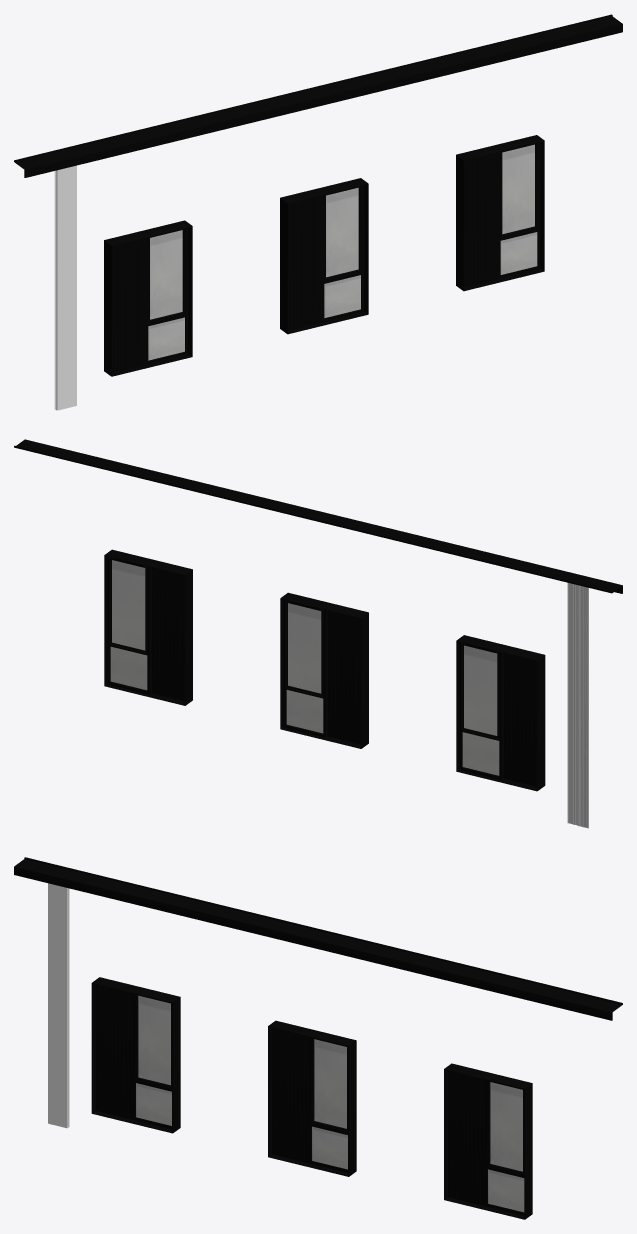
Rendered from MatrixFachada.glb.
3 views of the same model, one above another, from view 1: azimuth 30°, elevation 25°; view 2: azimuth 150°, elevation 25°; view 3: azimuth 330°, elevation 25° (orthographic).
Parts seen in each view (by area): view 1: Box006, Ventana3, Ventana2, Ventana1, Lamas3, Lamas2, Lamas1, Marco1, Marco2, Marco3, matriz2_j, matriz2_l (+2 smaller); view 2: Box006, Ventana1, Ventana2, Ventana3, Lamas1, Lamas2, Lamas3, Marco1, Marco3, Marco2, matriz2_c, matriz2_e (+5 smaller); view 3: Box006, Ventana3, Ventana1, Ventana2, Lamas2, Lamas3, Lamas1, matriz2_j, Marco1, Marco2, Marco3, matriz2_i (+2 smaller).
Boxes of the visible parts, left/top/right/bottom form: Box006: left=14, top=14, right=622, bottom=177; Ventana3: left=498, top=142, right=540, bottom=278; Ventana2: left=322, top=185, right=364, bottom=321; Ventana1: left=146, top=227, right=188, bottom=364; Lamas3: left=464, top=152, right=497, bottom=287; Lamas2: left=288, top=195, right=321, bottom=330; Lamas1: left=112, top=238, right=145, bottom=372; Marco1: left=104, top=220, right=192, bottom=376; Marco2: left=280, top=178, right=368, bottom=334; Marco3: left=456, top=135, right=544, bottom=291; matriz2_j: left=58, top=165, right=76, bottom=407; matriz2_l: left=58, top=167, right=71, bottom=409; Box006: left=14, top=439, right=622, bottom=593; Ventana1: left=459, top=641, right=503, bottom=780; Ventana2: left=283, top=599, right=327, bottom=737; Ventana3: left=107, top=556, right=151, bottom=694; Lamas1: left=504, top=652, right=537, bottom=786; Lamas2: left=328, top=610, right=361, bottom=744; Lamas3: left=152, top=567, right=185, bottom=701; Marco1: left=456, top=635, right=545, bottom=791; Marco3: left=104, top=549, right=192, bottom=705; Marco2: left=280, top=592, right=368, bottom=748; matriz2_c: left=567, top=583, right=577, bottom=825; matriz2_e: left=573, top=584, right=578, bottom=825; Box006: left=14, top=857, right=622, bottom=1020; Ventana3: left=485, top=1079, right=524, bottom=1215; Ventana1: left=133, top=993, right=171, bottom=1129; Ventana2: left=309, top=1037, right=347, bottom=1172; Lamas2: left=272, top=1027, right=308, bottom=1163; Lamas3: left=448, top=1070, right=484, bottom=1206; Lamas1: left=96, top=984, right=132, bottom=1119; matriz2_j: left=48, top=884, right=68, bottom=1128; Marco1: left=91, top=977, right=180, bottom=1133; Marco2: left=268, top=1020, right=356, bottom=1176; Marco3: left=444, top=1063, right=532, bottom=1219; matriz2_i: left=48, top=884, right=57, bottom=1125.
Size of the model in its own units: 9 by 3.61 by 0.4038.
Materials: 5 (1 with a texture image).
